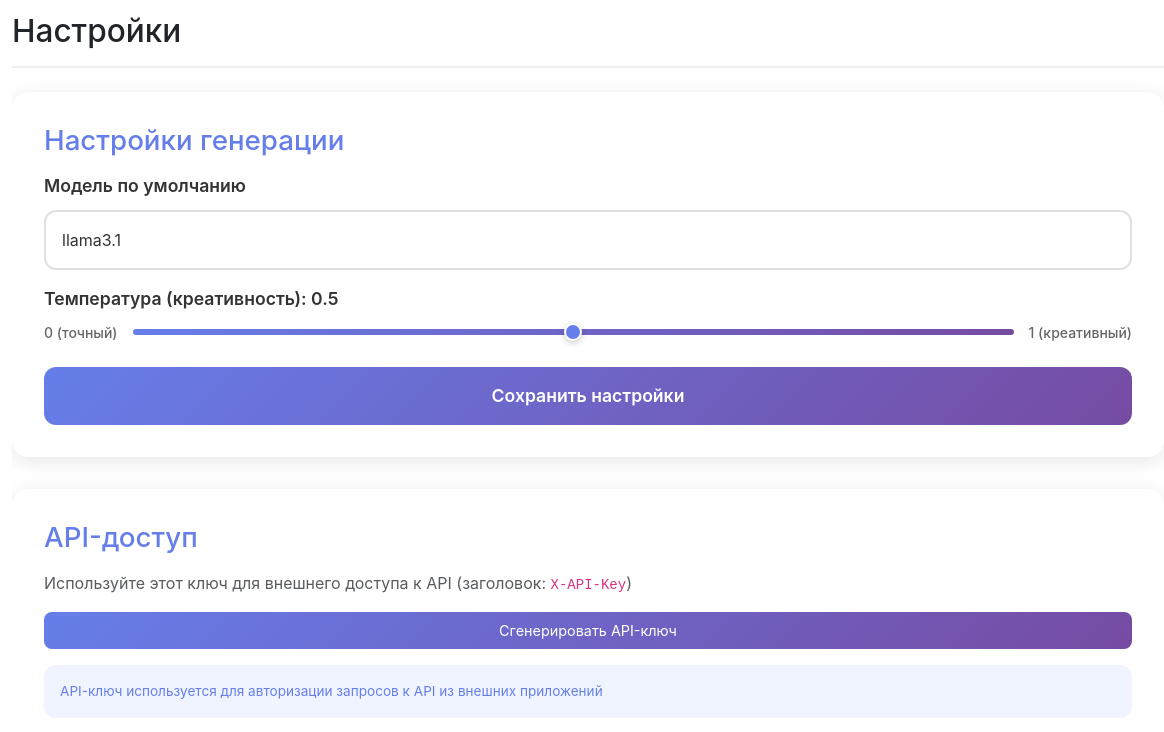
SettingsPage › should generate API key
Click the button "Сгенерировать API-ключ" at x=588, y=630, box 44,612 -> 1132,649
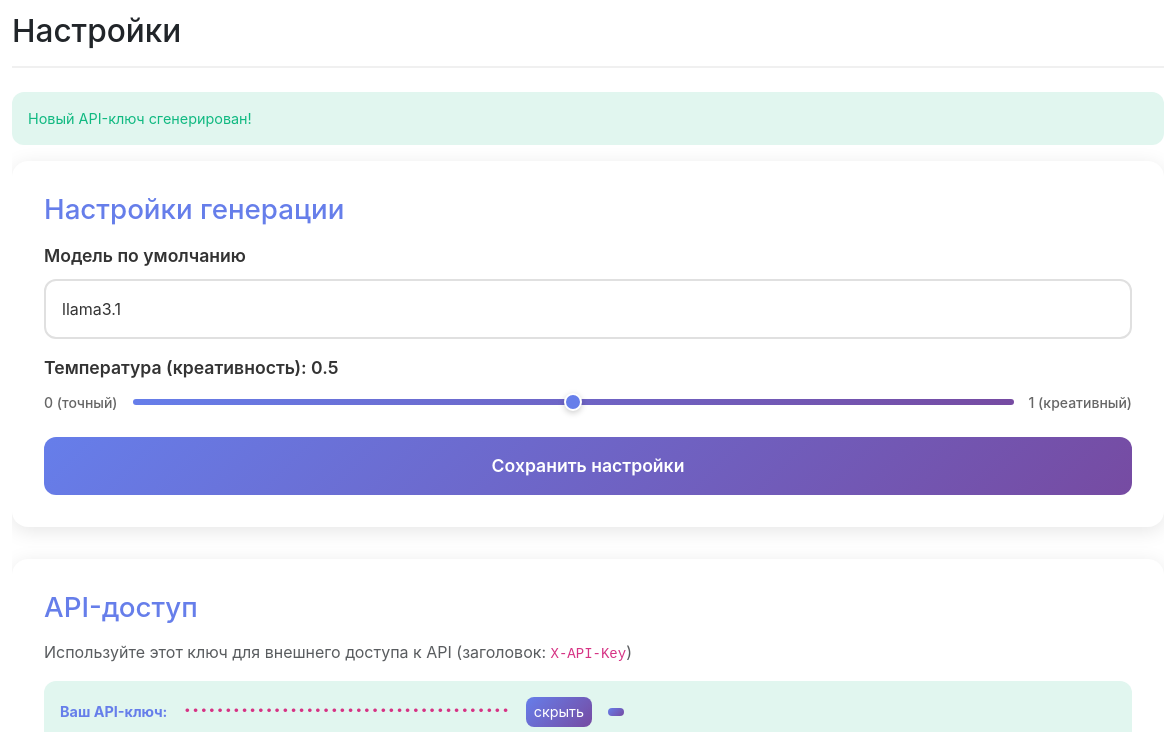
Expected: the text "Новый API-ключ сгенерирован!" is shown, 12,92 -> 1163,146
